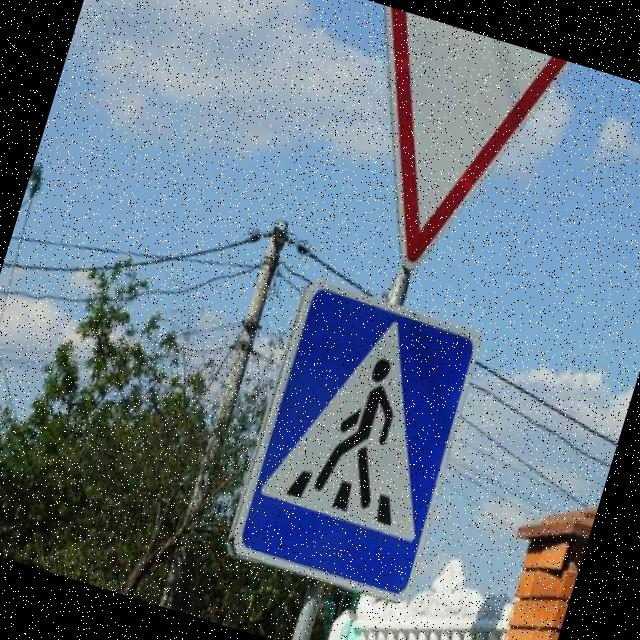crosswalk: (213, 266, 501, 624)
give_way: (288, 0, 581, 299)
